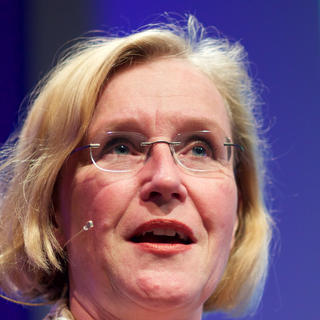eye: (99, 140, 143, 162), (178, 140, 216, 162)
